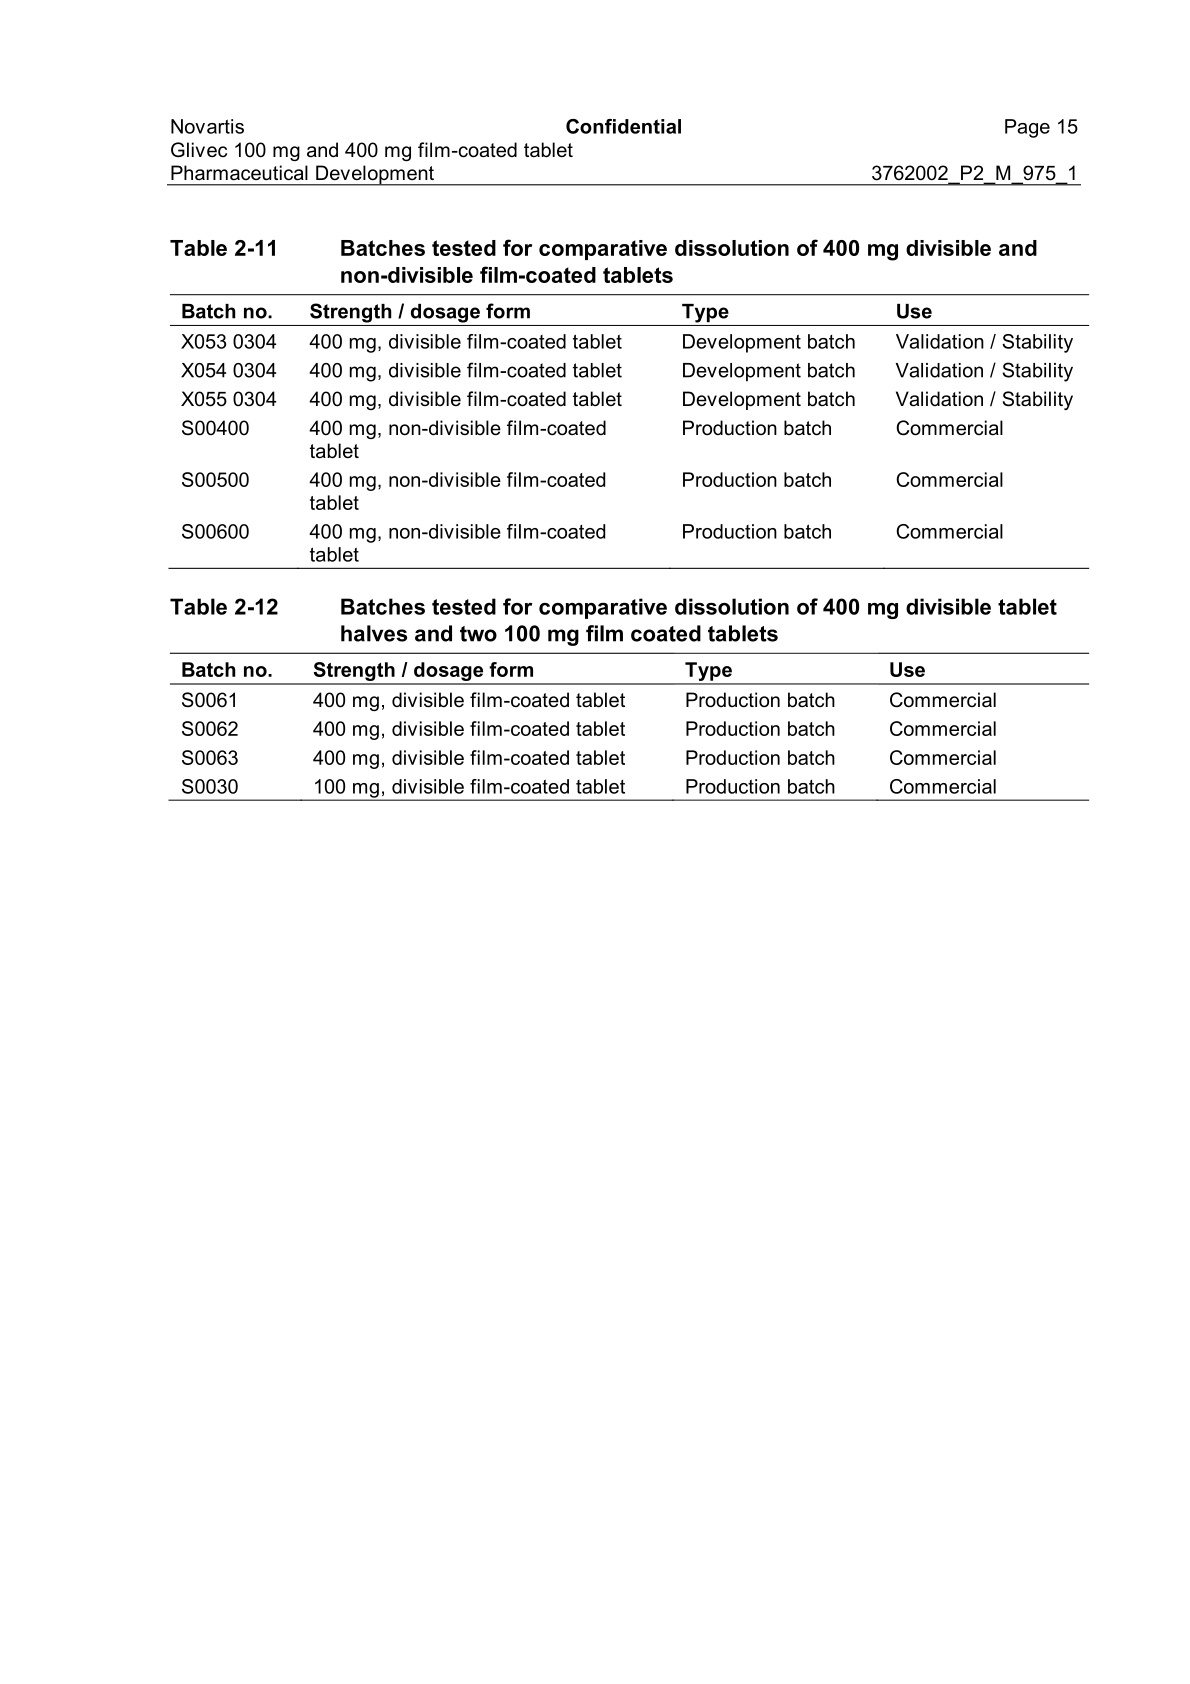partial_lined: (167, 291, 1091, 572), (170, 650, 1091, 803)
